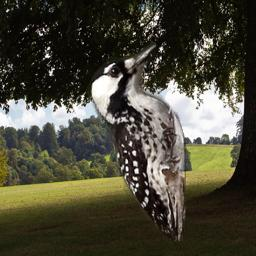Woodpecker: (86, 42, 186, 241)
